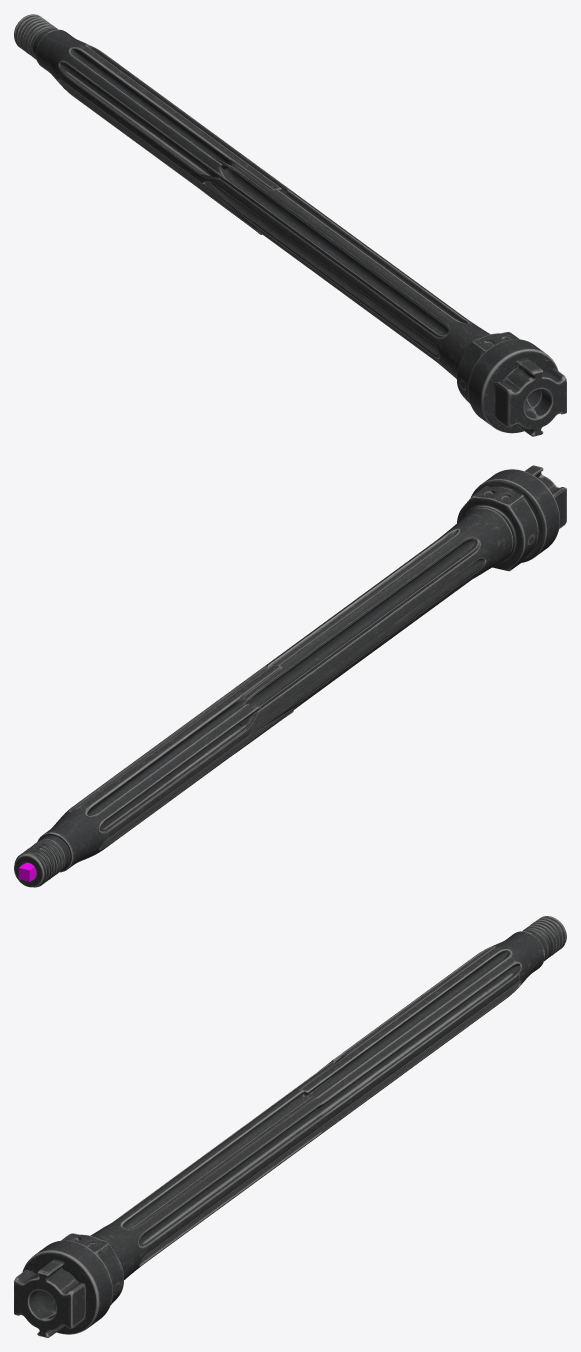
File: LongBarrel_DMR.glb
3 renders of one model, top to bottom at view 1: azimuth 30°, elevation 25°; view 2: azimuth 150°, elevation 25°; view 3: azimuth 330°, elevation 25°, orthographic.
Visible parts, largest first — view 1: LongBarrel_08, LongBarrel_05, LongBarrel_11, LongBarrel_04, LongBarrel_07, LongBarrel_09, LongBarrel_06, LongBarrel_10; view 2: LongBarrel_08, LongBarrel_05, LongBarrel_09, LongBarrel_04, LongBarrel_07, LongBarrel_10, LongBarrel_06, LongBarrel_01, LongBarrel_03, LongBarrel_11; view 3: LongBarrel_08, LongBarrel_05, LongBarrel_11, LongBarrel_04, LongBarrel_07, LongBarrel_09, LongBarrel_06, LongBarrel_10.
Part boxes in pixels (<box>): LongBarrel_08: <box>290,219,455,351</box>; LongBarrel_05: <box>107,83,238,194</box>; LongBarrel_11: <box>481,349,566,436</box>; LongBarrel_04: <box>35,29,147,127</box>; LongBarrel_07: <box>227,171,337,265</box>; LongBarrel_09: <box>414,307,518,403</box>; LongBarrel_06: <box>199,151,270,218</box>; LongBarrel_10: <box>458,337,545,429</box>; LongBarrel_08: <box>308,545,465,676</box>; LongBarrel_05: <box>118,701,248,814</box>; LongBarrel_09: <box>425,487,535,589</box>; LongBarrel_04: <box>43,767,161,871</box>; LongBarrel_07: <box>241,630,351,726</box>; LongBarrel_10: <box>471,469,559,567</box>; LongBarrel_06: <box>209,678,284,749</box>; LongBarrel_01: <box>14,849,51,887</box>; LongBarrel_03: <box>32,833,72,875</box>; LongBarrel_11: <box>514,465,566,528</box>; LongBarrel_08: <box>120,1117,283,1254</box>; LongBarrel_05: <box>343,986,473,1097</box>; LongBarrel_11: <box>14,1250,99,1337</box>; LongBarrel_04: <box>430,931,544,1029</box>; LongBarrel_07: <box>241,1072,349,1168</box>; LongBarrel_09: <box>65,1206,166,1304</box>; LongBarrel_06: <box>306,1050,381,1118</box>; LongBarrel_10: <box>32,1237,121,1328</box>.
Size of the model in its own units: 0.2133 by 0.2134 by 2.42.
2 materials, 1 textured.
